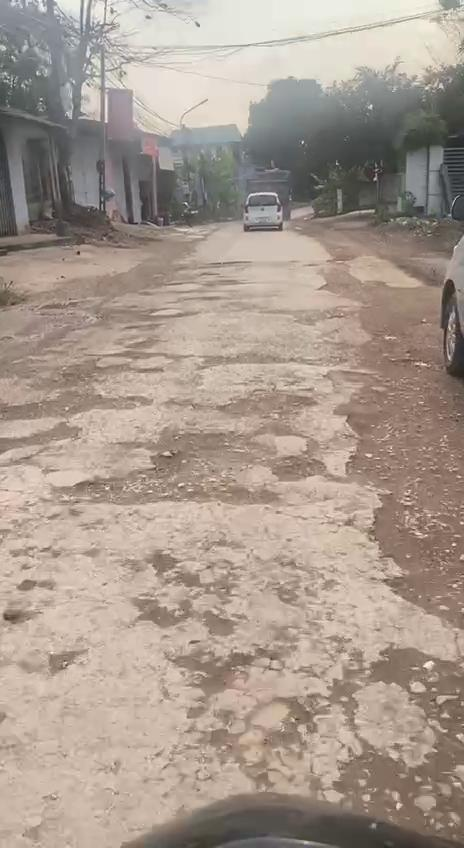pothole: (332, 639, 464, 848), (170, 636, 323, 788), (54, 428, 332, 510), (354, 488, 464, 630), (132, 550, 245, 640), (338, 404, 409, 488), (0, 386, 153, 422), (0, 417, 88, 469), (213, 388, 326, 422), (82, 348, 174, 380), (322, 364, 374, 396)
